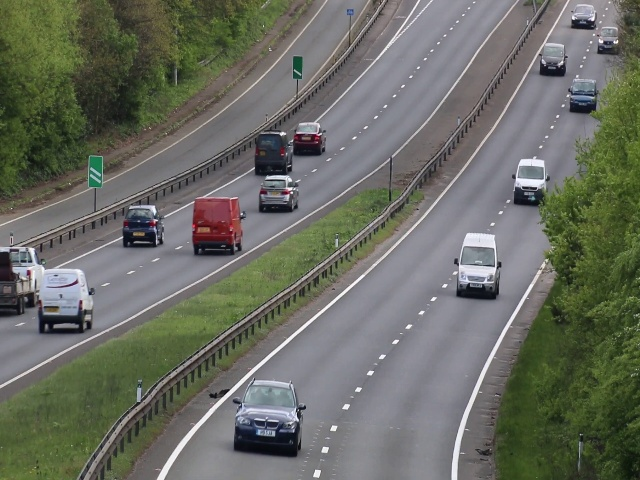car: (234, 382, 305, 458), (36, 266, 93, 335), (455, 232, 500, 301), (194, 196, 243, 254), (1, 244, 41, 314), (123, 204, 165, 251), (257, 174, 299, 216), (253, 130, 293, 173), (513, 157, 546, 201), (292, 121, 327, 157), (566, 77, 598, 112), (540, 39, 568, 73), (569, 5, 597, 29), (597, 26, 618, 52)
